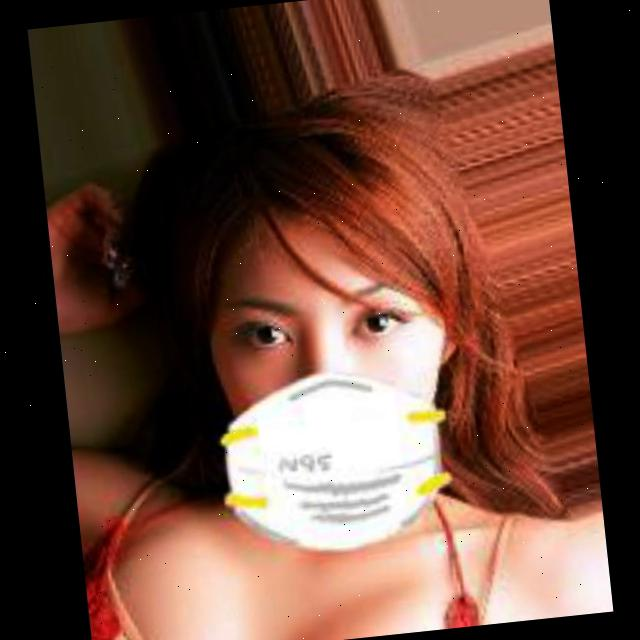suspicion: (176, 165, 566, 552)
